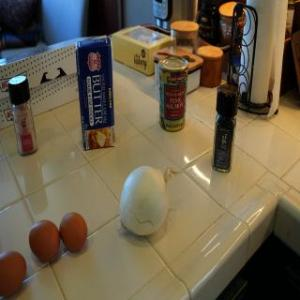egg: (25, 219, 64, 264), (56, 210, 91, 254), (1, 248, 28, 296)
onion: (113, 163, 170, 239)
